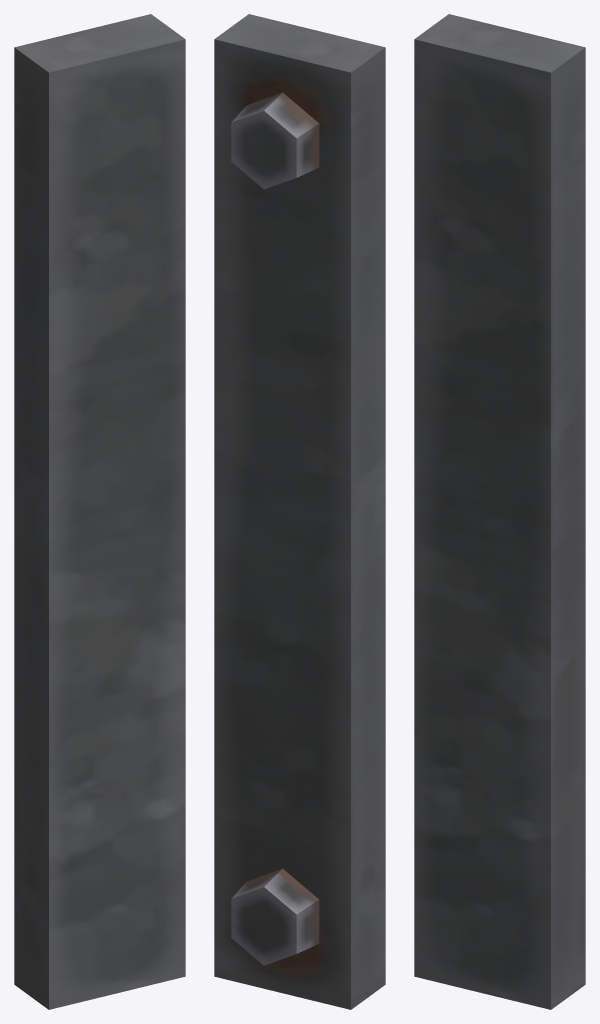
The model's file is Vent_Suport_B.fbx.
The picture shows the model from 3 angles, left to right: view 1: azimuth 30°, elevation 25°; view 2: azimuth 150°, elevation 25°; view 3: azimuth 330°, elevation 25°; orthographic projection.
Visible parts, largest first — view 1: Cube.004; view 2: Cube.004; view 3: Cube.004.
Boxes of the visible parts, x1=… form: Cube.004: x1=14, y1=14, x2=185, y2=1009; Cube.004: x1=214, y1=14, x2=385, y2=1009; Cube.004: x1=414, y1=14, x2=585, y2=1009.
Bounding box in the file's own units: 19.74 × 129 × 13.3.
